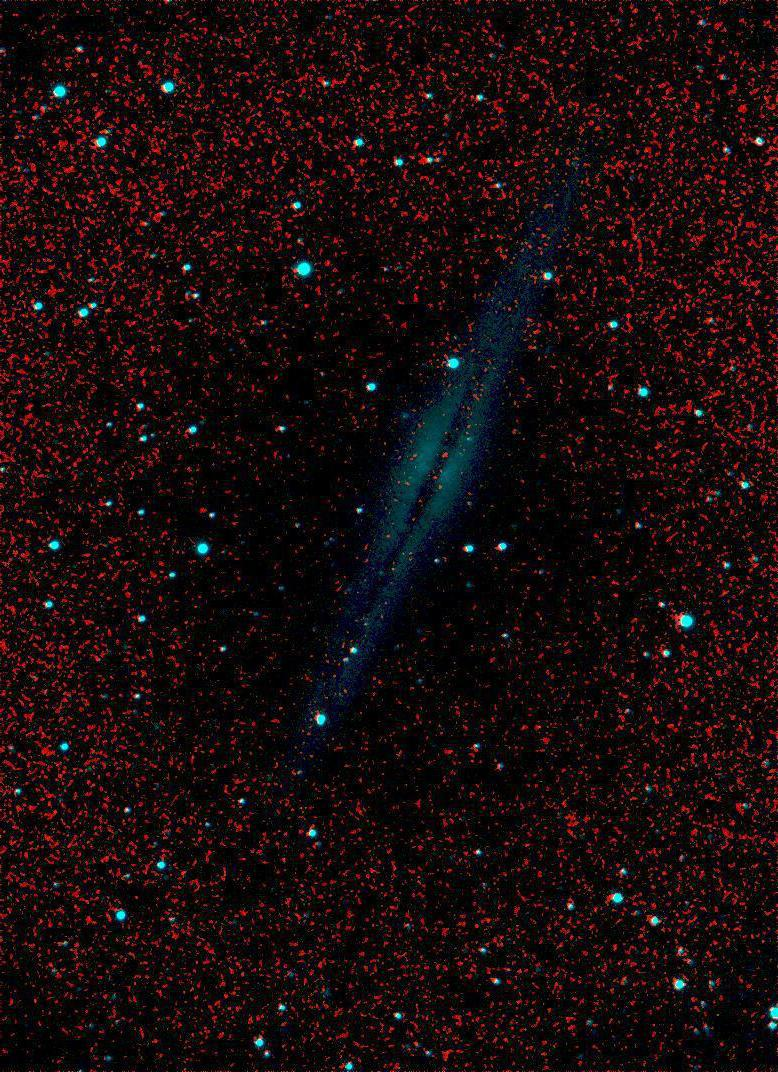star: (431, 438, 461, 468)
